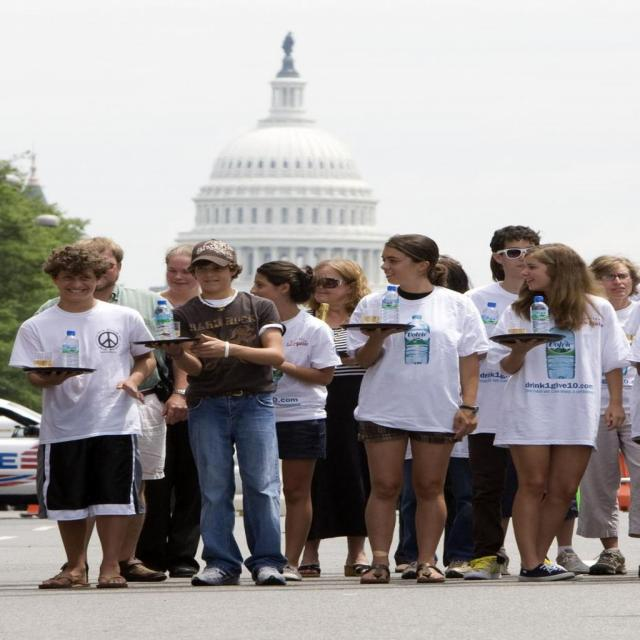nomask: (75, 253, 119, 291), (56, 265, 96, 301), (381, 248, 417, 284), (501, 240, 538, 275), (313, 268, 345, 302), (520, 255, 550, 291), (166, 261, 198, 293), (196, 264, 232, 292), (249, 274, 279, 307), (597, 269, 632, 297)
